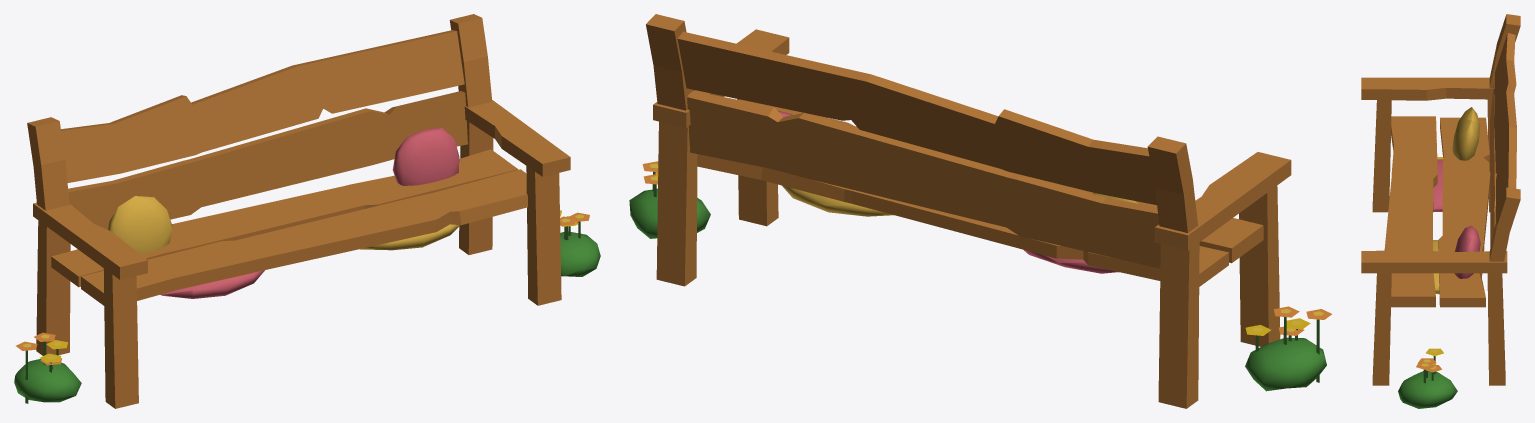
The model's file is sunset_bench-1.glb.
The picture shows the model from 3 angles, left to right: view 1: azimuth 30°, elevation 25°; view 2: azimuth 150°, elevation 25°; view 3: azimuth 270°, elevation 25°; orthographic projection. The views are drawn at different scales.
Visible parts, largest first — view 1: decor-sunset_bench-1; view 2: decor-sunset_bench-1; view 3: decor-sunset_bench-1.
Boxes of the visible parts, x1,y1,x2,y2 form: decor-sunset_bench-1: (14, 14, 600, 408); decor-sunset_bench-1: (629, 14, 1331, 408); decor-sunset_bench-1: (1361, 14, 1520, 408).
Bounding box in the file's own units: 4.25 × 1.56 × 1.2.
